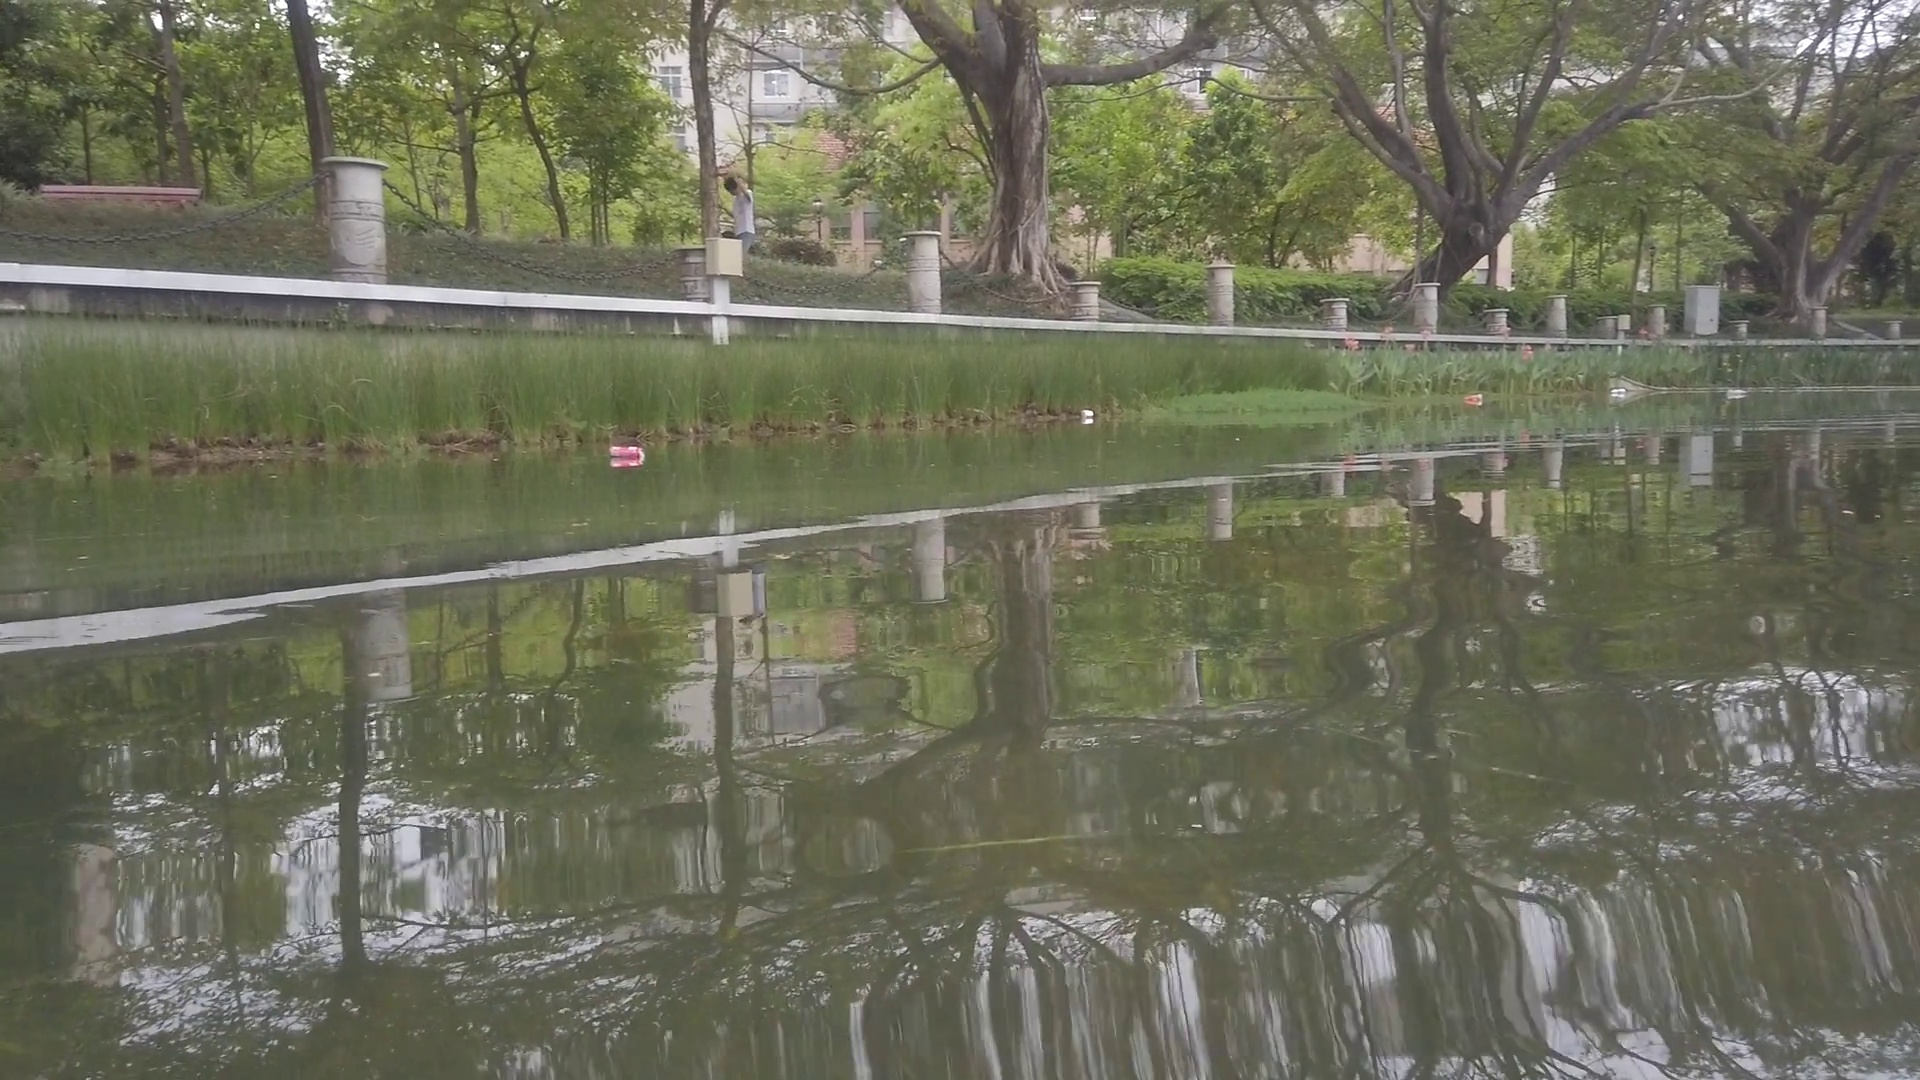bottle: (611, 444, 647, 460), (1725, 389, 1747, 400), (1610, 386, 1627, 396), (1465, 396, 1482, 404)
carton: (1080, 410, 1095, 422)
